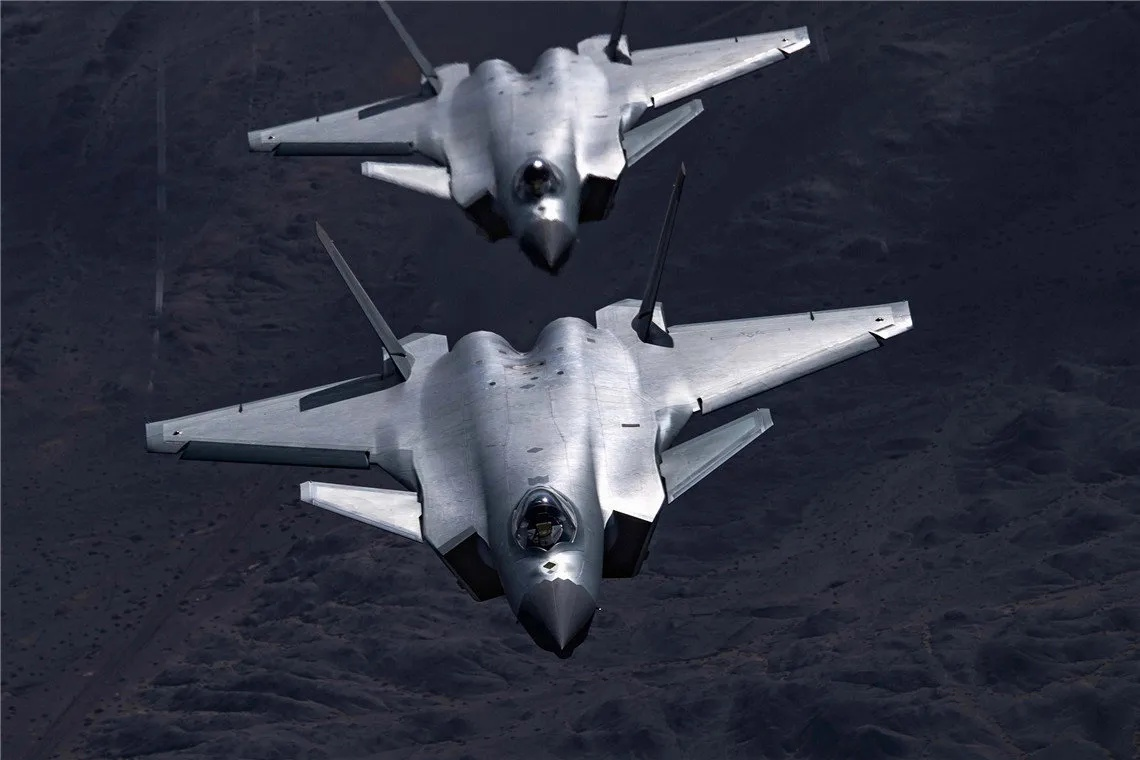J20: (145, 161, 914, 660), (247, 1, 811, 277)
